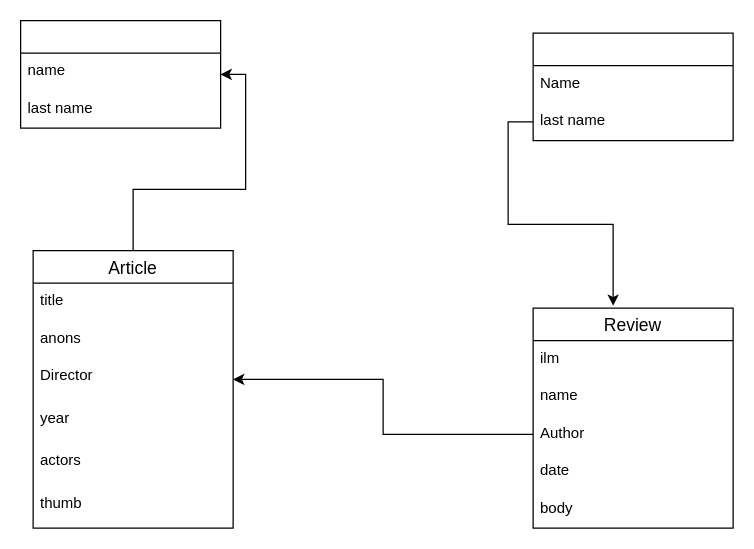
Some shapes in this 754 by 549 pixel diagram are drawn without their labels. The box of each missing label's shape, as (x1, y1, x2, y2) in pixels:
Actor: (19, 19, 221, 128)
Person: (532, 32, 733, 141)
